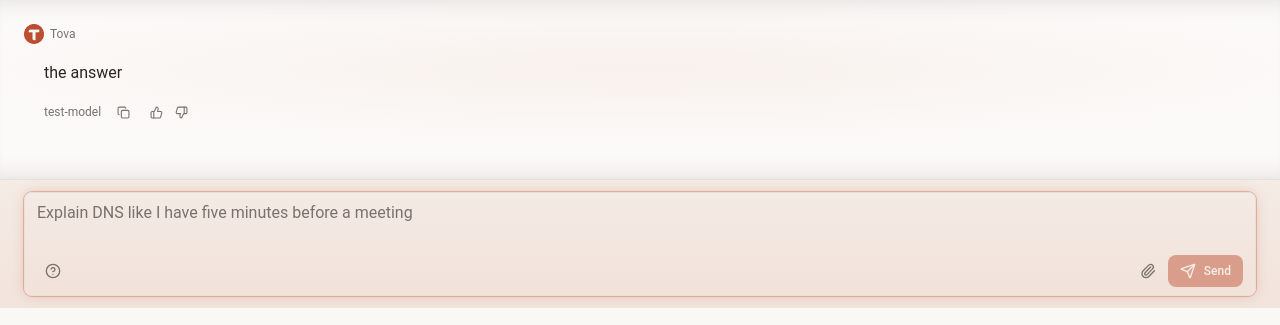
ChatWindow feedback thumbs › disables both thumbs while the request is pending
Click the button named "Good response" at (157, 112), box [146, 102, 167, 123]
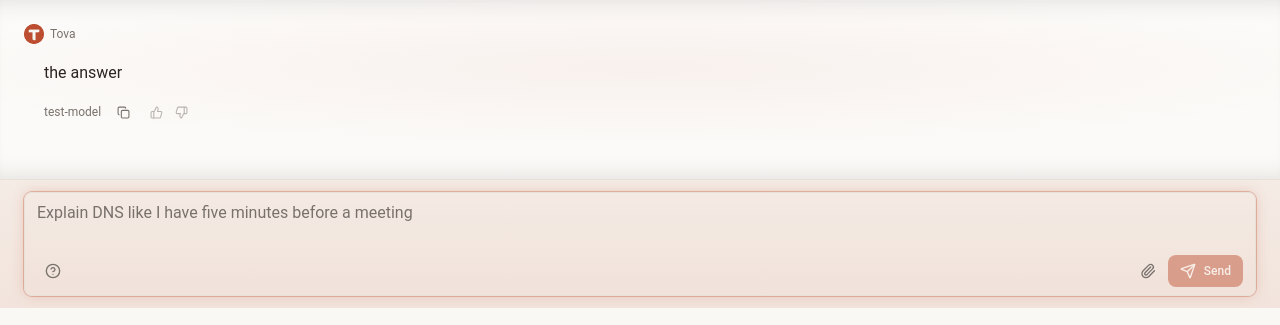
Expected: the button named "Poor response" is disabled, [171, 102, 192, 123]
Expected: the button named "Good response" is disabled, [146, 102, 167, 123]
